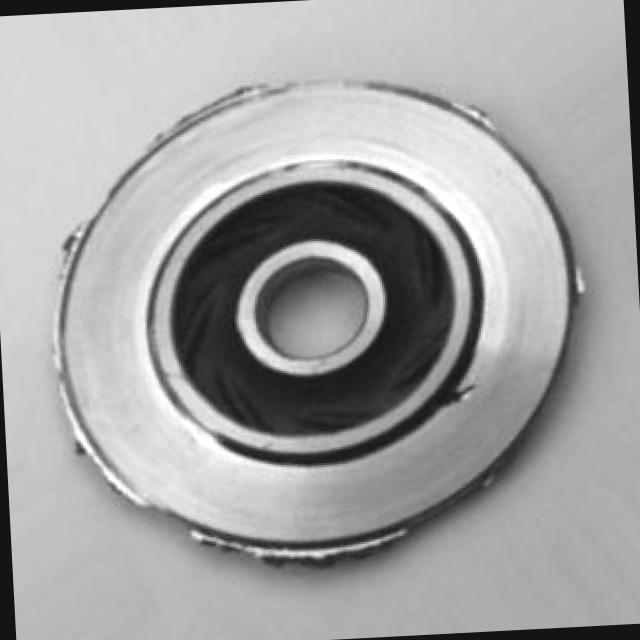Defect: (194, 516, 277, 576), (439, 372, 484, 417)
